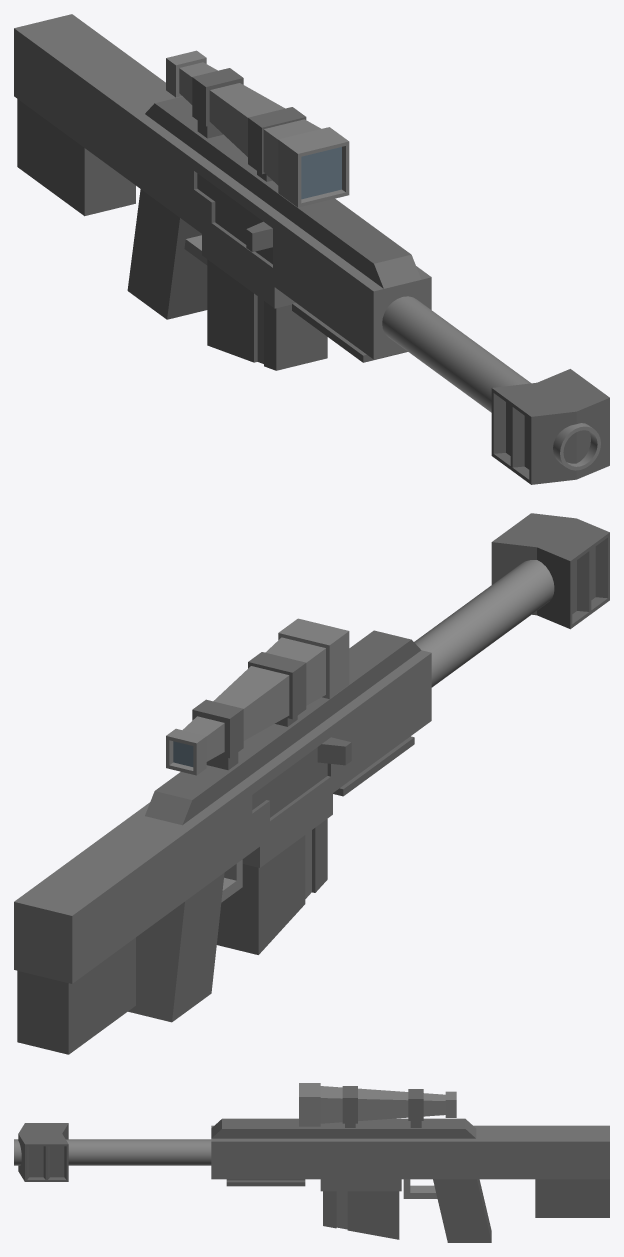
Rendered from sniper.glb.
3 views of the same model, one above another, from view 1: azimuth 30°, elevation 25°; view 2: azimuth 150°, elevation 25°; view 3: azimuth 270°, elevation 25° (orthographic). The views are drawn at different scales.
Parts seen in each view (by area): view 1: sniper; view 2: sniper; view 3: sniper.
Part boxes in pixels (<box>): sniper: <box>14,14,609,484</box>; sniper: <box>14,513,609,1054</box>; sniper: <box>14,1083,609,1242</box>.
Size of the model in its own units: 0.0156 by 0.0444 by 0.1632.
